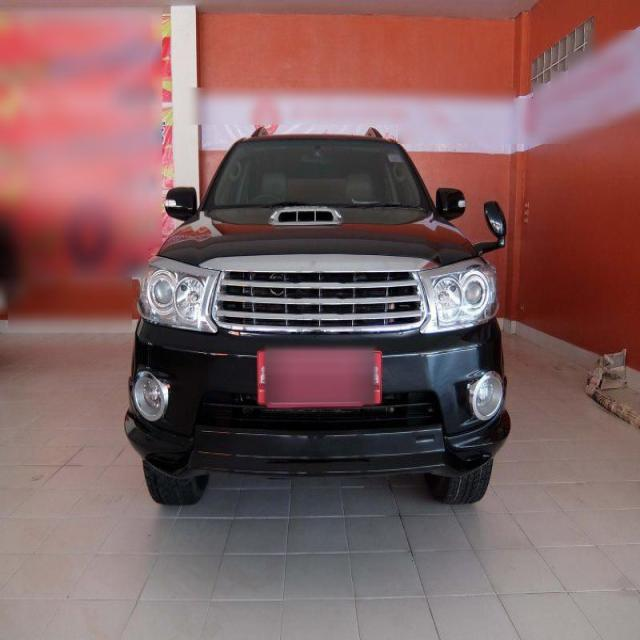front_bumper: (123, 252, 513, 483)
front_glass: (202, 139, 433, 210)
front_left_light: (432, 261, 498, 334)
front_right_light: (140, 265, 208, 332)
hood: (157, 203, 477, 265)
left_mirror: (435, 183, 467, 223)
right_mirror: (162, 185, 203, 221)
